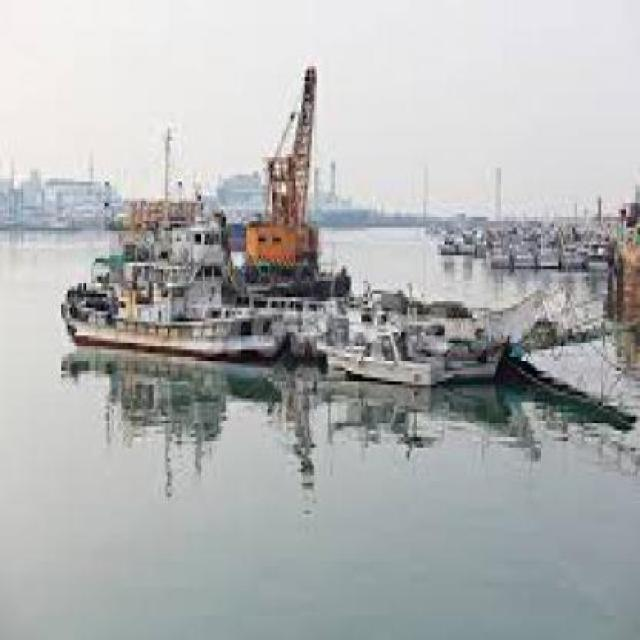fish-b: (43, 243, 301, 383)
